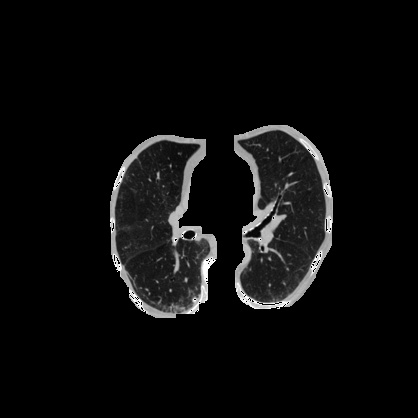PN: (192, 297, 196, 301)
